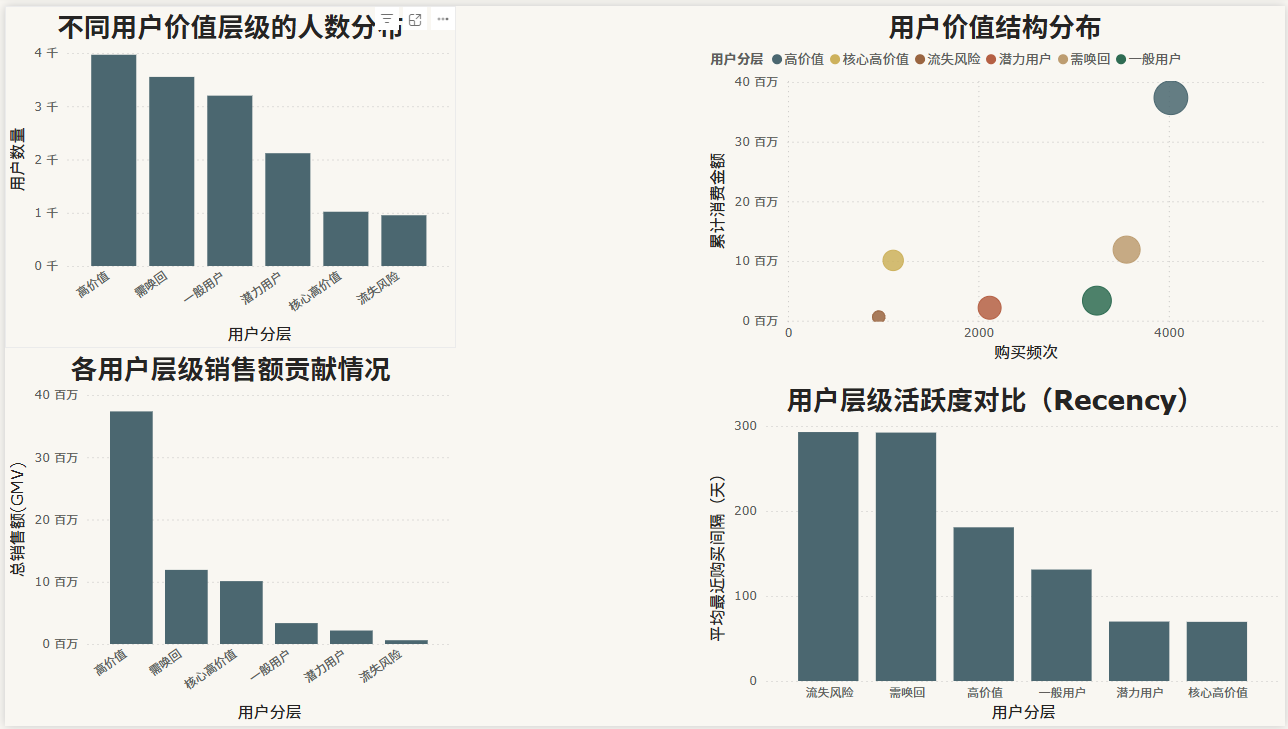

What the dashboard file says about the page in this screenshot:
{"tool":"powerbi","page":{"name":"用户分层","canvas":[1280,720],"ordinal":3},"visuals":[{"type":"columnChart","title":"不同用户价值层级的人数分布","fields":{"Category":["rfm_table.Segment"],"Y":["CountNonNull(rfm_table.new_user_id)"]},"box":[0,0,451.3,342.4],"z":0},{"type":"columnChart","title":"各用户层级销售额贡献情况","fields":{"Category":["rfm_table.Segment"],"Y":["Sum(rfm_table.Monetary)"]},"box":[0,342.4,451.3,377.4],"z":1000},{"type":"columnChart","title":"用户层级活跃度对比（Recency）","fields":{"Category":["rfm_table.Segment"],"Y":["Avg(rfm_table.Recency)"]},"box":[700.3,373.5,579.7,346.3],"z":2000},{"type":"scatterChart","title":"用户价值结构分布","fields":{"X":["Sum(rfm_table.Frequency)"],"Y":["Sum(rfm_table.Monetary)"],"Series":["rfm_table.Segment"],"Size":["Sum(rfm_table.RFM_Score)"]},"box":[700.3,0,579.7,359.9],"z":3000}]}

Visuals, with their boxes in screenshot pixels (x1, y1, x2, y2), scaled from the page's 1280x720 canvas onto the 1288x729 screenshot:
"不同用户价值层级的人数分布" columnChart: bbox=(0, 0, 454, 347)
"各用户层级销售额贡献情况" columnChart: bbox=(0, 347, 454, 728)
"用户层级活跃度对比（Recency）" columnChart: bbox=(705, 378, 1287, 728)
"用户价值结构分布" scatterChart: bbox=(705, 0, 1287, 364)
